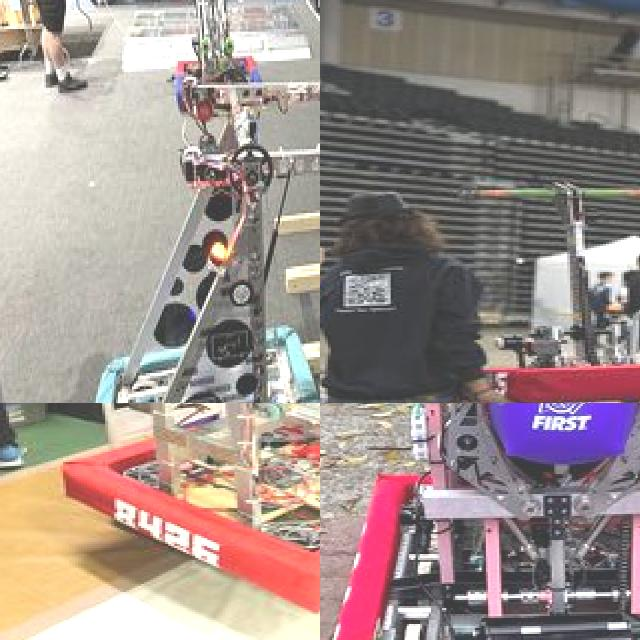FRC-Robots: (84, 0, 320, 403), (320, 403, 640, 640), (463, 173, 640, 403), (92, 403, 320, 581), (153, 0, 267, 101)
